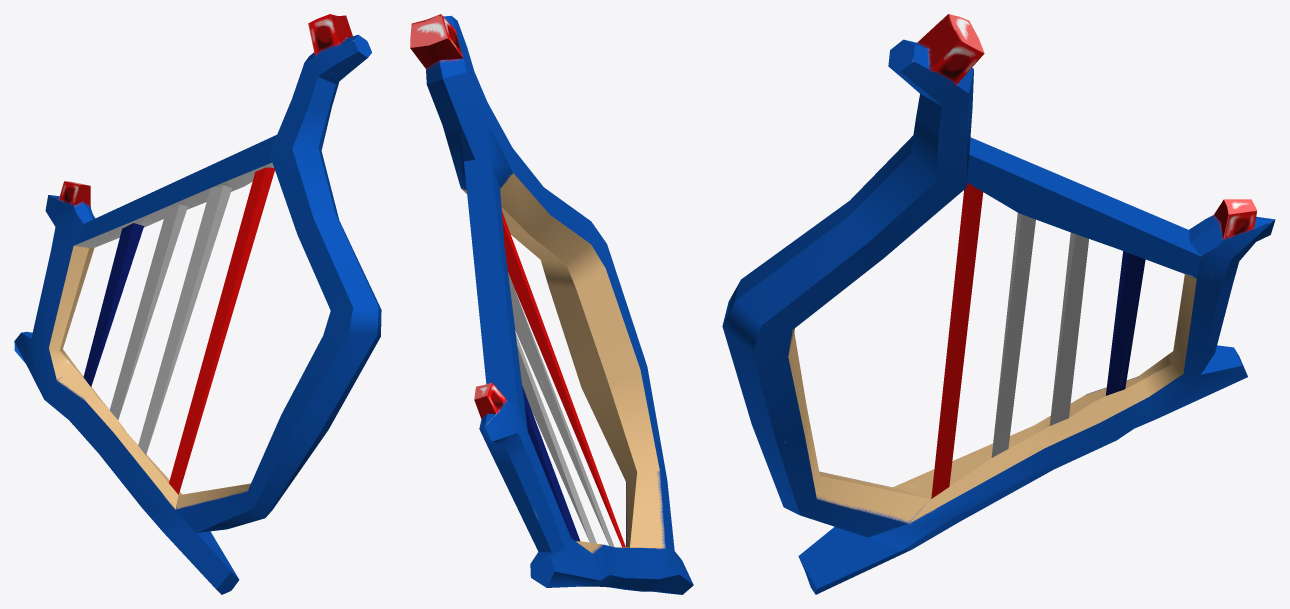
File: Arpa2_000016.obj
3 renders of one model, left to right at view 1: azimuth 30°, elevation 25°; view 2: azimuth 150°, elevation 25°; view 3: azimuth 270°, elevation 25°, orthographic. The views are drawn at different scales.
Parts seen in each view (by area): view 1: a2_Arpa_1:pCube7; view 2: a2_Arpa_1:pCube7; view 3: a2_Arpa_1:pCube7.
Boxes of the visible parts, bbox=[...] form: a2_Arpa_1:pCube7: bbox=[14, 14, 381, 594]; a2_Arpa_1:pCube7: bbox=[410, 14, 693, 594]; a2_Arpa_1:pCube7: bbox=[722, 14, 1275, 594].
Size of the model in its own units: 4.04 by 8.22 by 6.08.
